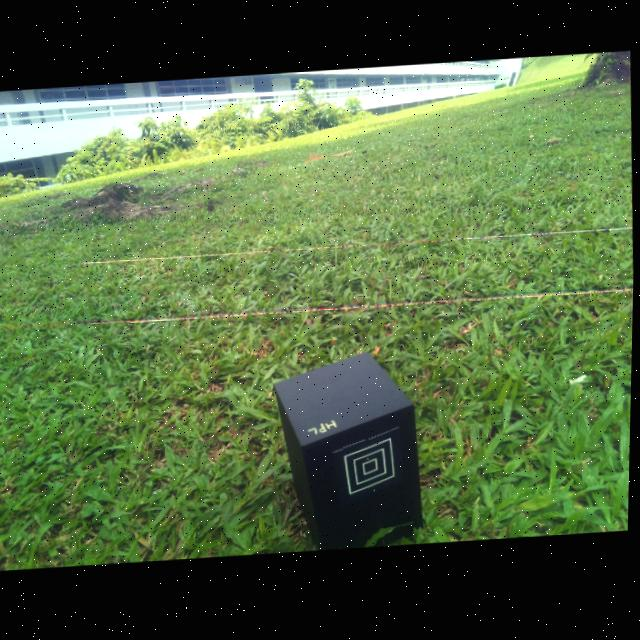BULLSEYE: (346, 442, 396, 497)
